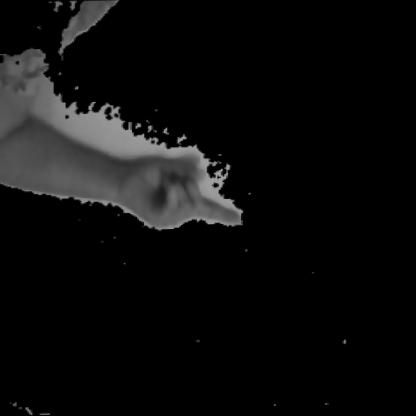one: (0, 73, 268, 288)
